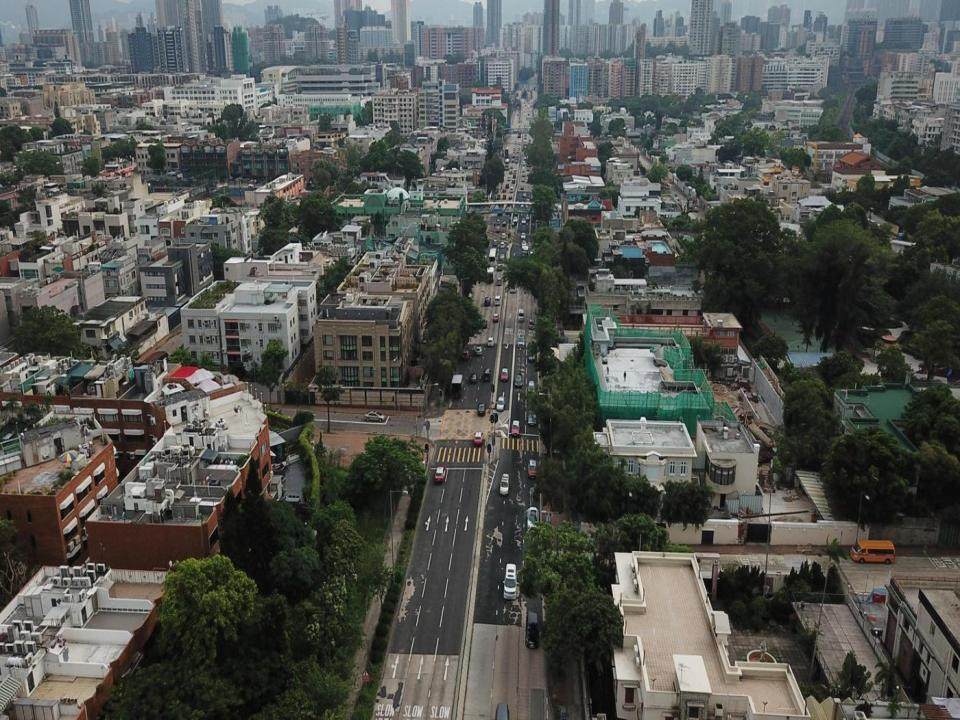bus: (488, 248, 497, 267), (503, 158, 510, 170), (505, 145, 510, 157)
car: (527, 507, 539, 531), (432, 464, 448, 481), (363, 411, 385, 422), (528, 459, 537, 480), (510, 419, 521, 436), (500, 474, 509, 494), (496, 395, 504, 412), (473, 430, 483, 443), (528, 409, 536, 425), (477, 402, 486, 416), (528, 380, 536, 395), (501, 367, 508, 382), (515, 372, 522, 386), (528, 347, 535, 361), (510, 278, 516, 292), (469, 372, 477, 382), (474, 346, 482, 356), (493, 312, 500, 322), (483, 296, 490, 306), (488, 336, 494, 347), (529, 319, 535, 330), (497, 275, 502, 287), (463, 349, 468, 360), (530, 250, 535, 260), (521, 217, 527, 224), (501, 230, 506, 238), (521, 240, 526, 248), (511, 219, 516, 227), (493, 238, 498, 245), (498, 262, 502, 270), (526, 213, 531, 219), (499, 253, 504, 259), (521, 231, 525, 238), (502, 220, 506, 227), (496, 218, 500, 225), (496, 227, 500, 233), (520, 177, 524, 183), (501, 241, 504, 248), (514, 168, 517, 175), (522, 192, 526, 197), (513, 216, 517, 221), (511, 158, 514, 164), (517, 147, 520, 153), (527, 198, 530, 204), (512, 174, 516, 178), (512, 153, 515, 158), (512, 179, 515, 184), (497, 194, 500, 199), (520, 186, 524, 189), (513, 147, 516, 151), (514, 139, 517, 143), (527, 166, 529, 171), (522, 160, 524, 165), (503, 188, 505, 192), (509, 195, 511, 199), (510, 165, 513, 167)
truck: (450, 374, 463, 396), (485, 266, 494, 282), (521, 245, 529, 261), (515, 155, 520, 163)
van: (850, 539, 895, 564), (525, 611, 539, 649), (503, 563, 517, 599), (494, 702, 510, 719), (517, 332, 525, 350), (483, 367, 491, 380), (517, 309, 525, 322), (494, 295, 500, 306), (505, 181, 509, 189), (510, 186, 514, 193), (502, 194, 507, 199), (522, 167, 525, 173), (508, 175, 511, 180)
